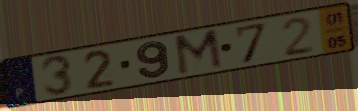2: (279, 15, 317, 59), (81, 48, 117, 91)
3: (39, 53, 76, 100)
7: (234, 20, 271, 66)
9: (134, 39, 173, 81)
M: (171, 26, 226, 78)
